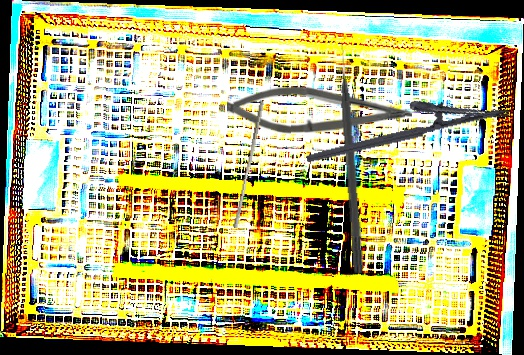Micro Scissor: (226, 83, 413, 135)
Needle Holder: (299, 79, 512, 165)
Pusher: (336, 41, 367, 274), (232, 100, 265, 229)
